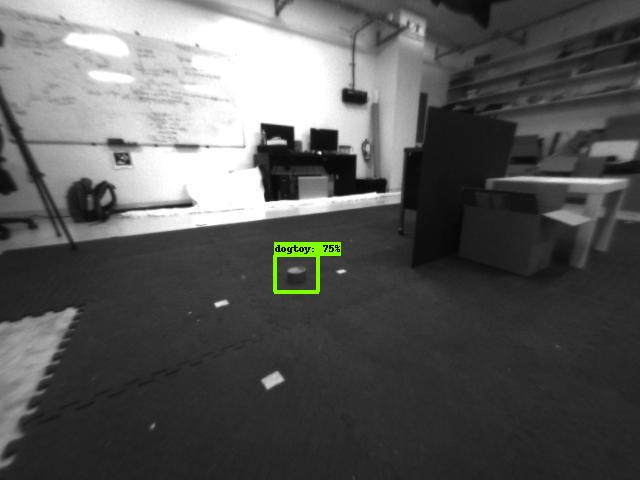dogtoy: (276, 255, 316, 290)
